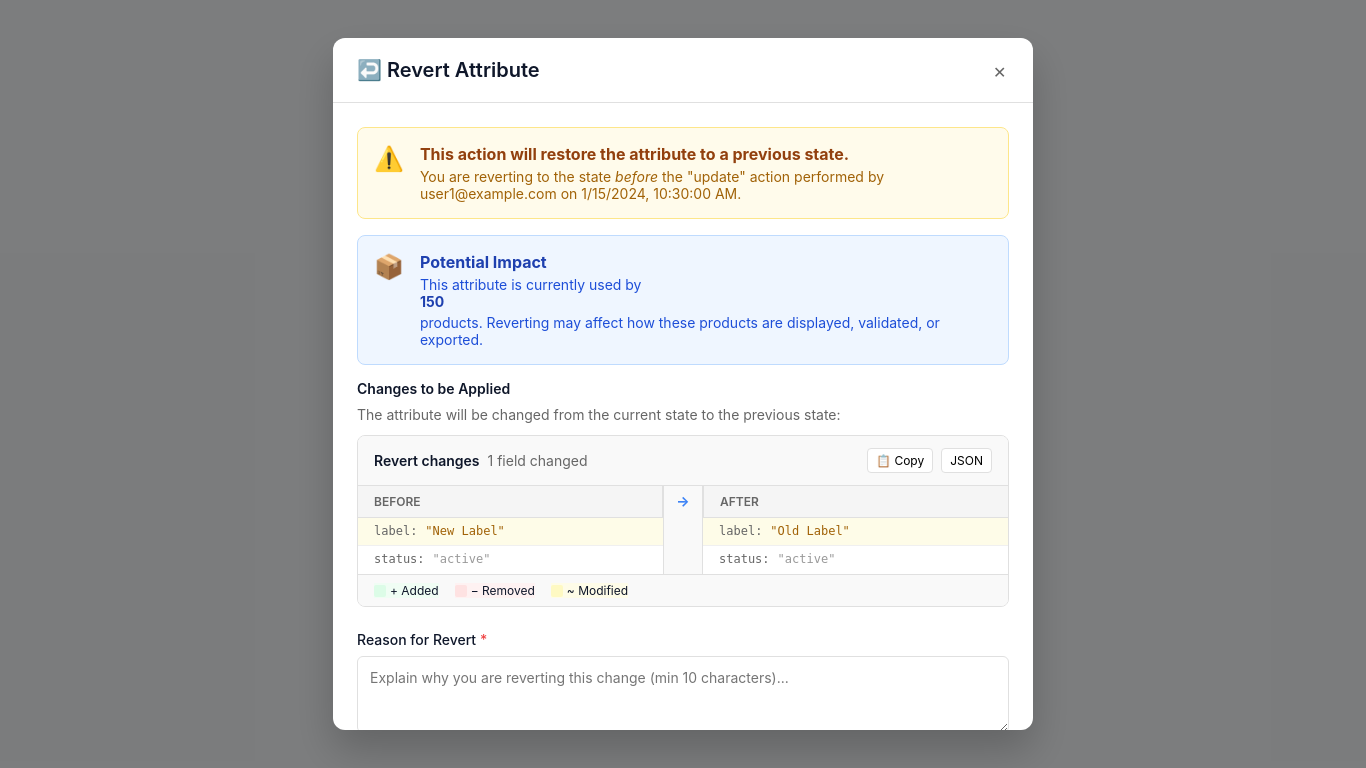
Test: RevertModal › should require confirmation checkbox
Type reason but don't check
Type "This is a valid reason for reverting" into the text box with placeholder "Explain why".
click(683, 695); type("This is a valid reason for reverting")  # box [357, 656, 1009, 733]
(page scrolled)
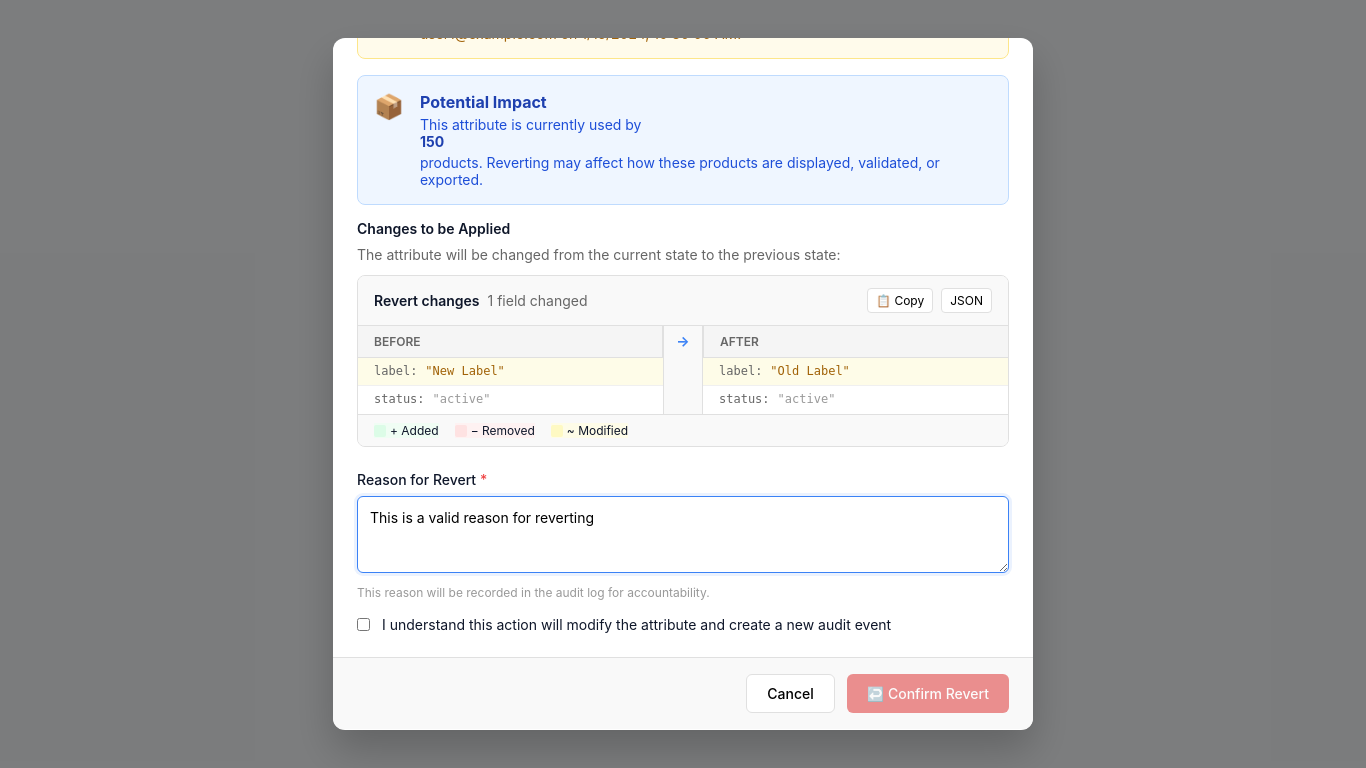
Now the button "↩️ Confirm Revert" is disabled, box [847, 674, 1009, 713]
